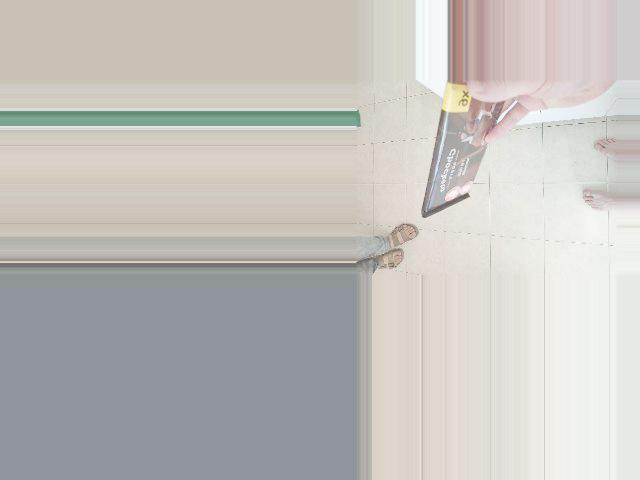chocolate: (409, 135, 551, 249)
